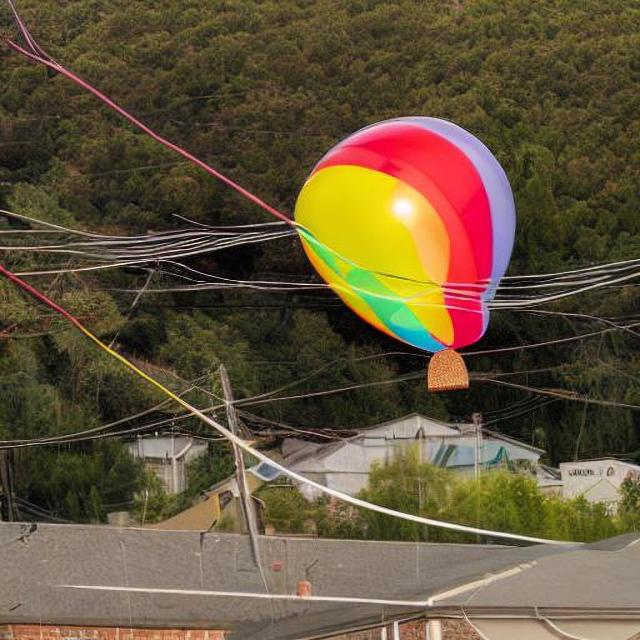balloon: (286, 114, 512, 364)
